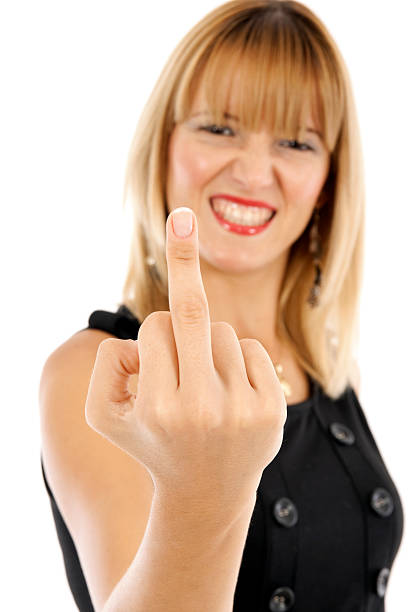insulting_gesture: (82, 204, 289, 544)
